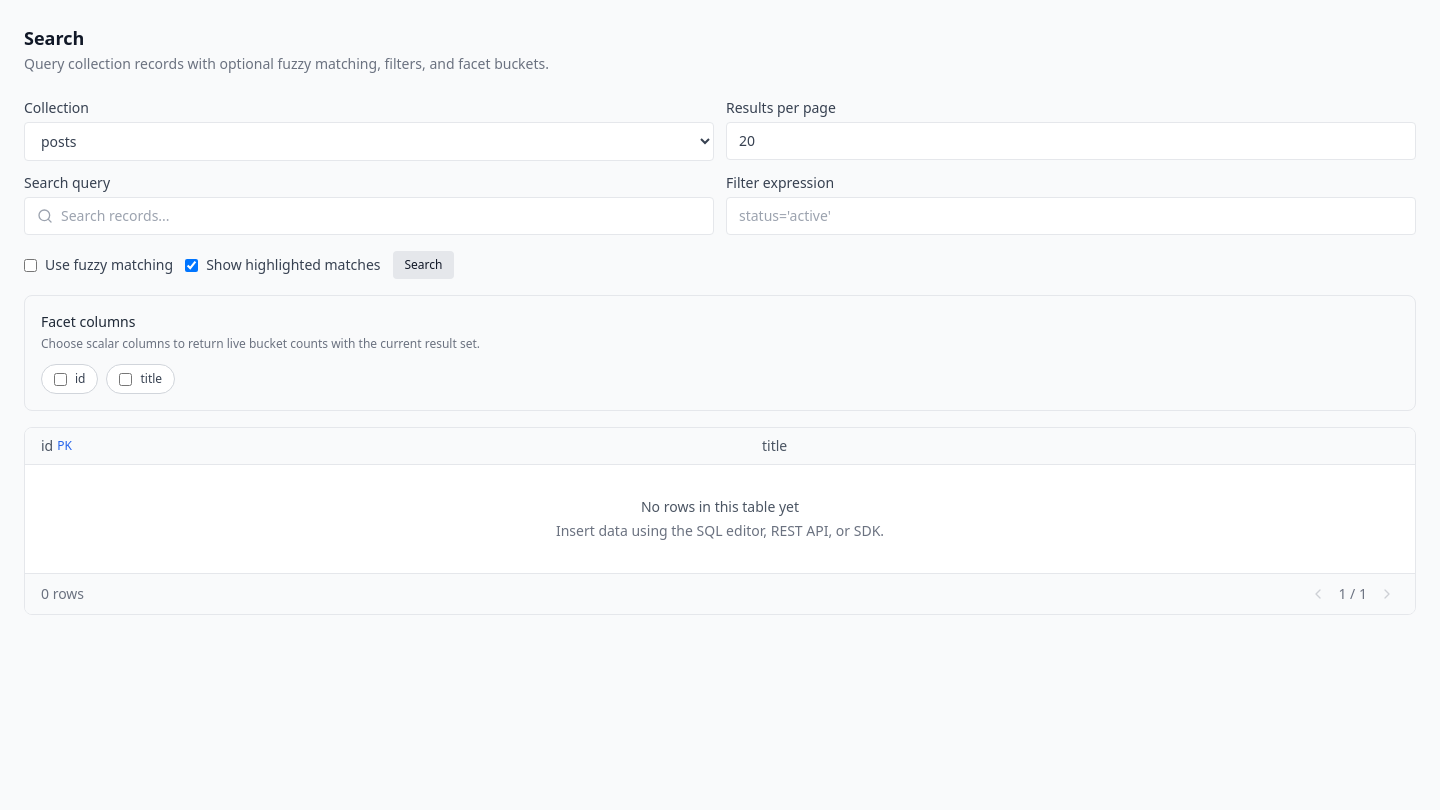
Search › suppresses blank highlight snippets when the backend returns only empty markup
This screenshot has width=1440, height=810.
Type "alpha" into the field labelled "Search query" at (381, 216), box [61,206,701,226]
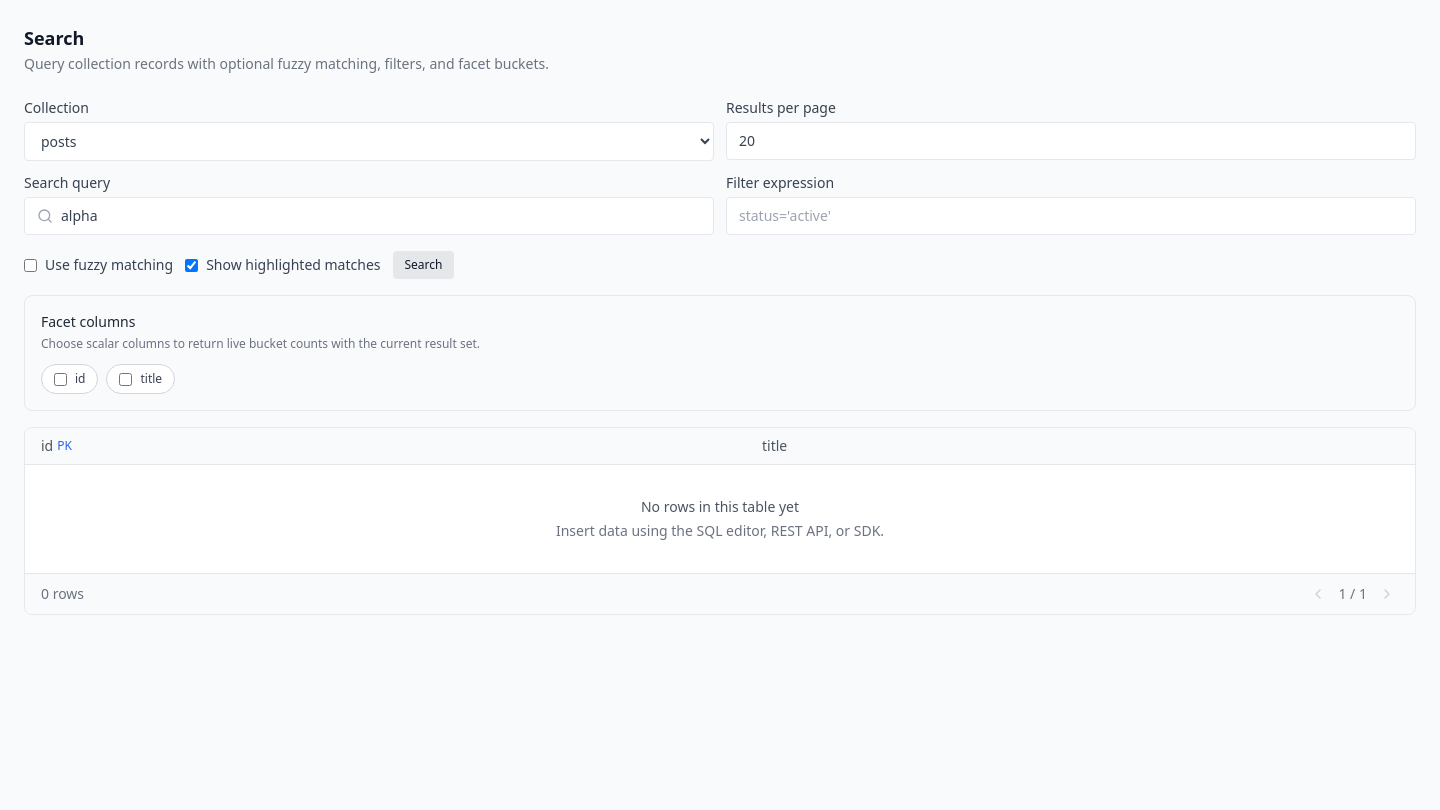
Click the button "Search" at (424, 265), box [392,251,454,279]
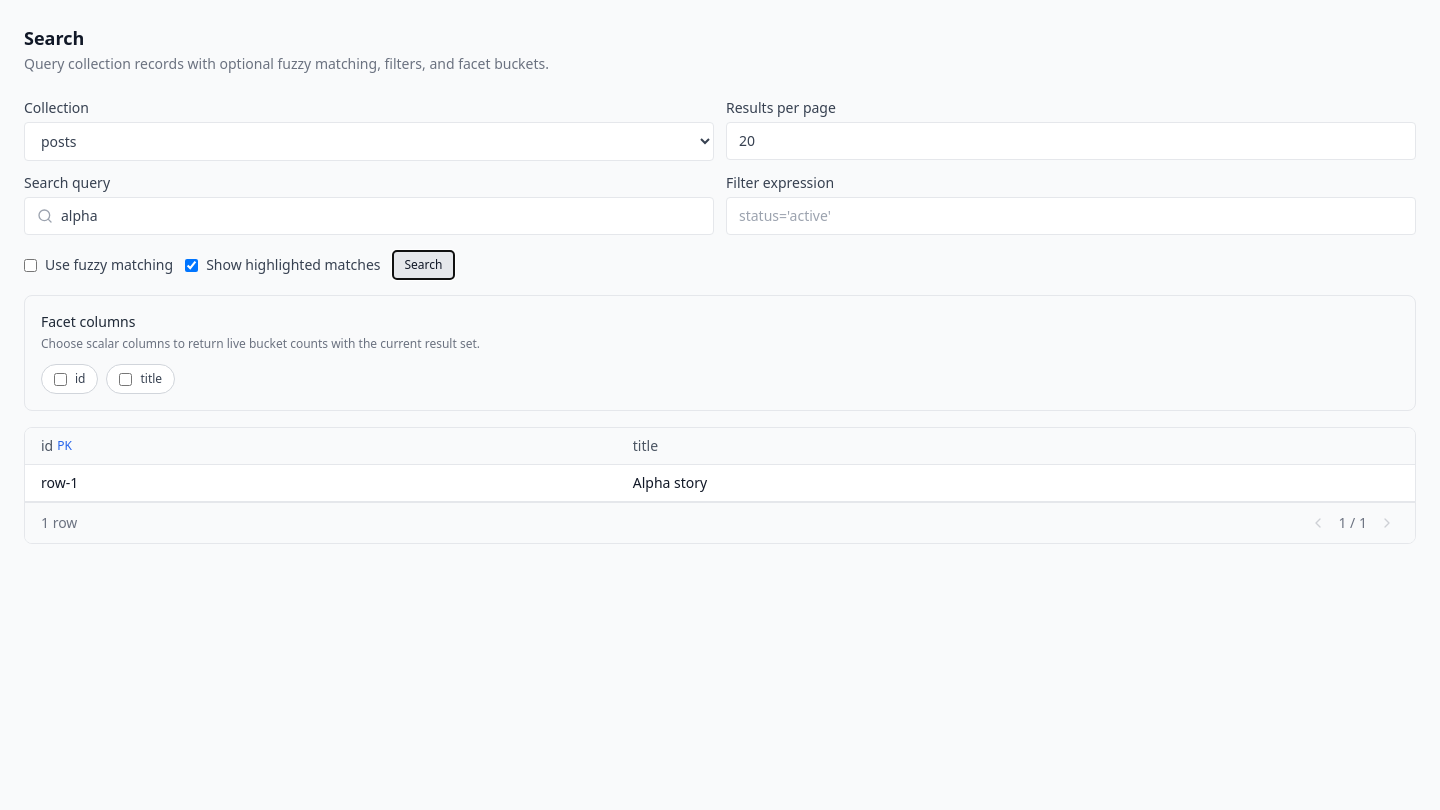
expect the text "Alpha story" is shown: met, box [617,464,1415,502]
